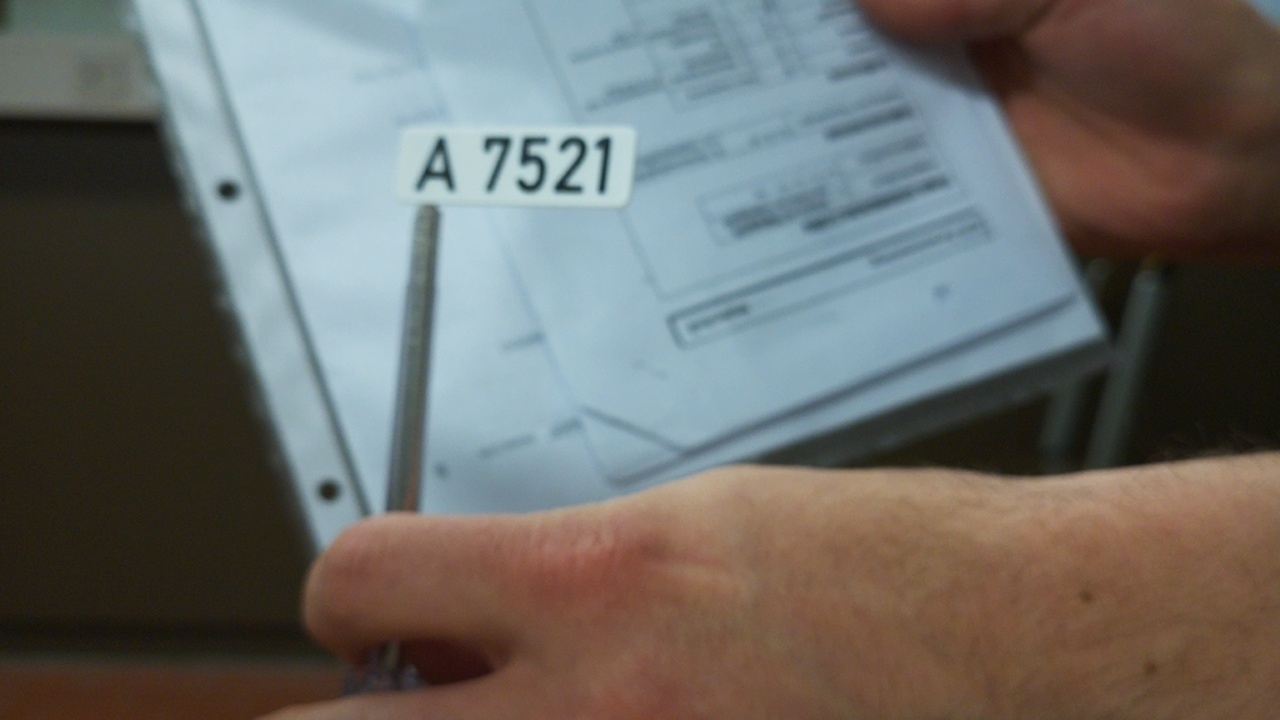license_plate: (384, 121, 639, 208)
